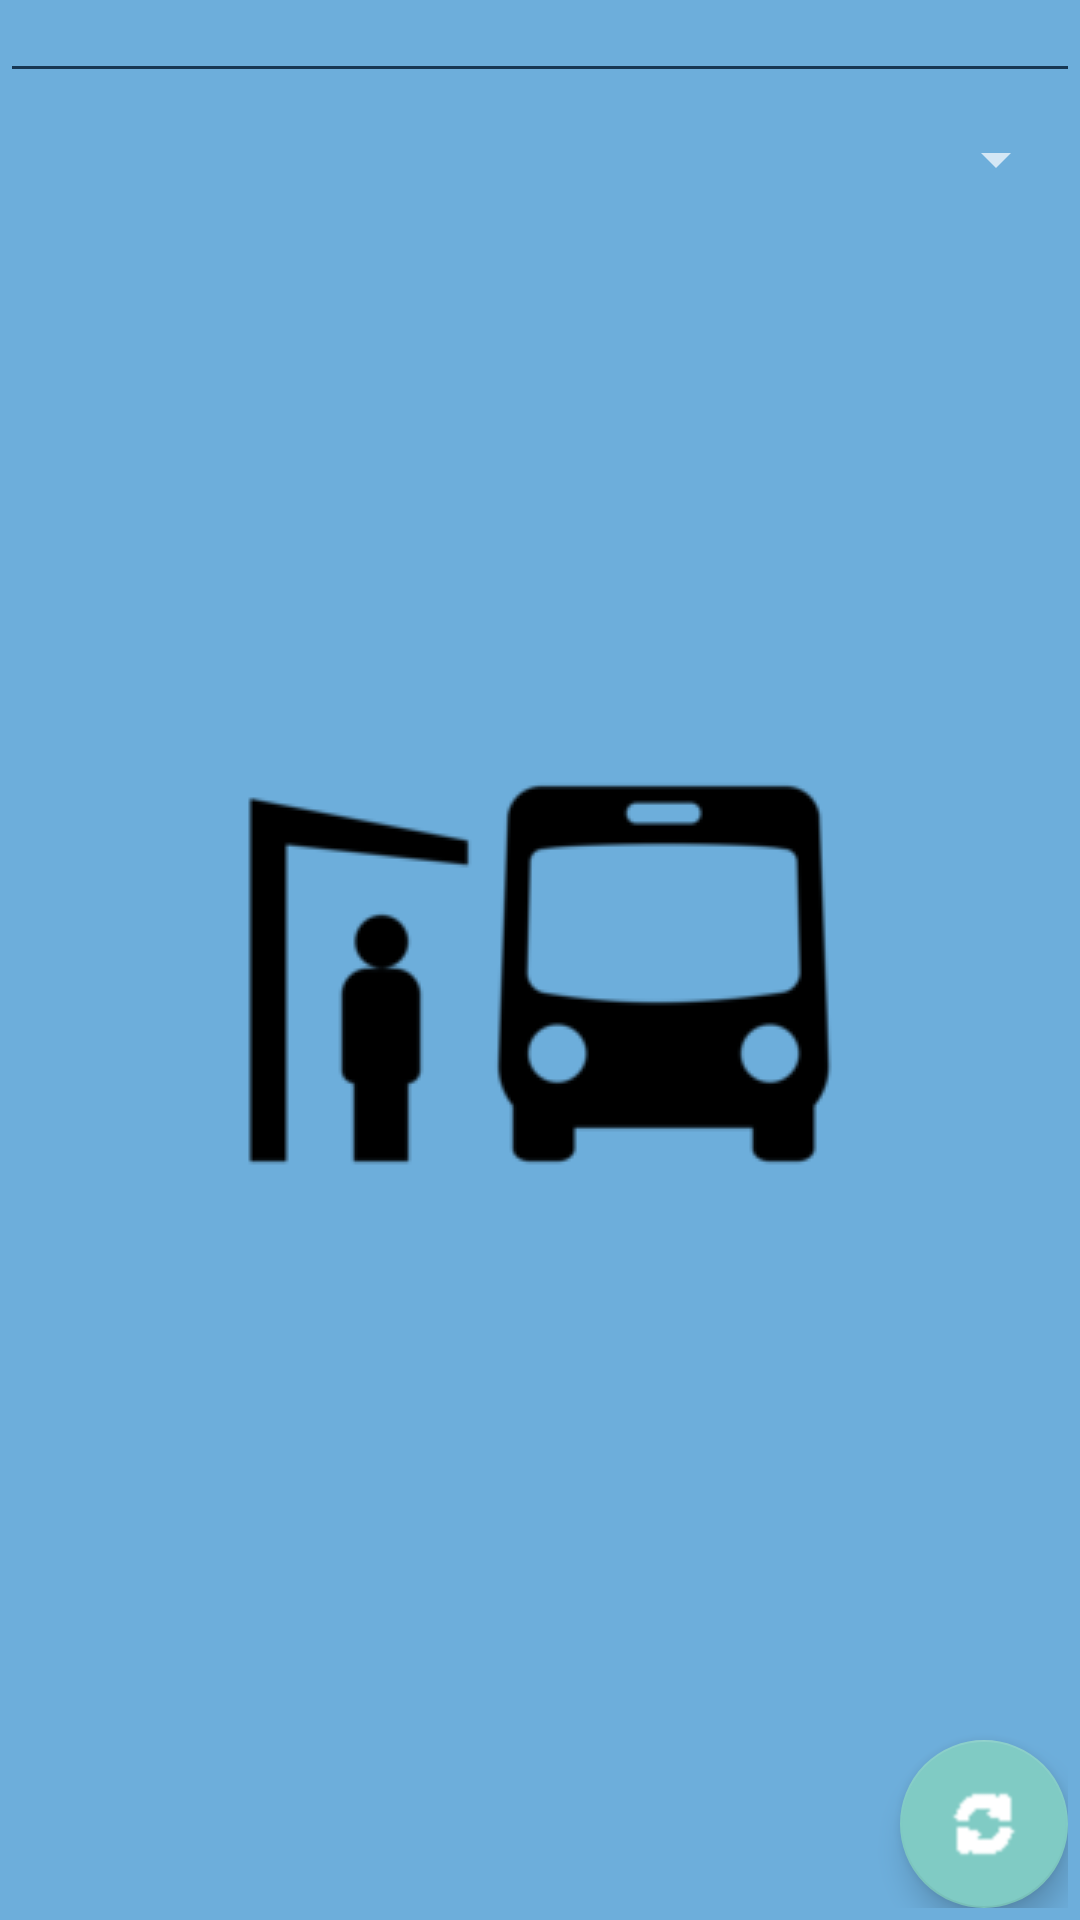

Named icons in this screenshot (1080px x 1920px) and their bounding boxes, (x1, y1, x2, y2):
update: (900, 1740, 1068, 1908)
